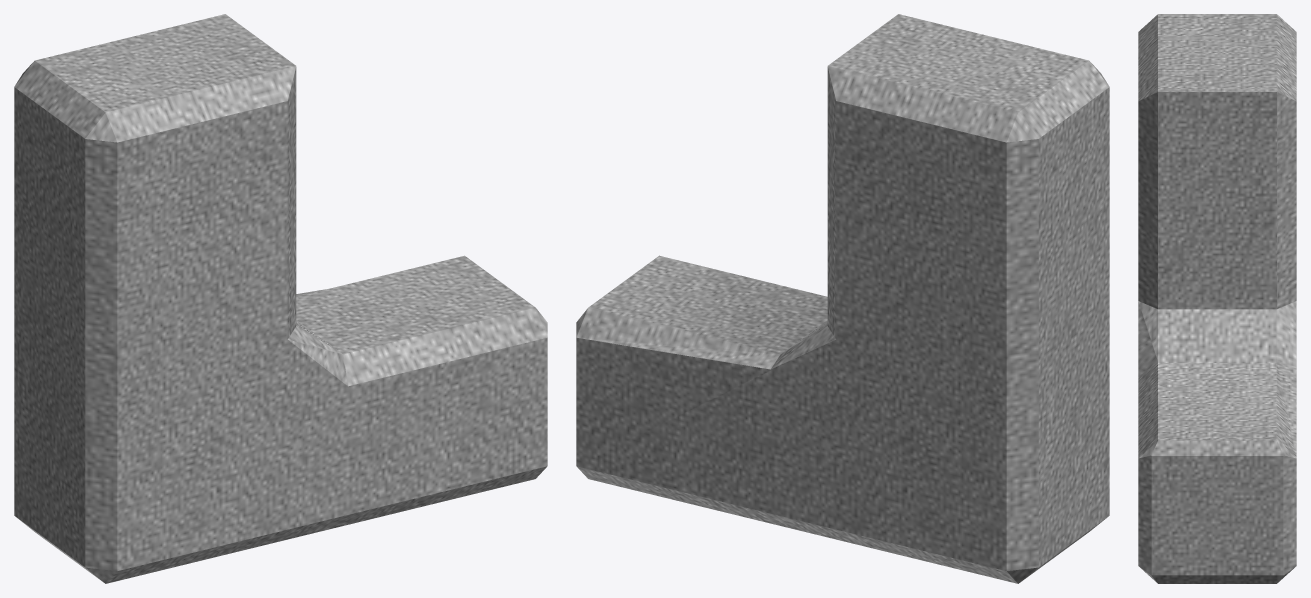
File: Motor.FBX
The picture shows the model from 3 angles, left to right: view 1: azimuth 30°, elevation 25°; view 2: azimuth 150°, elevation 25°; view 3: azimuth 270°, elevation 25°; orthographic projection. The views are drawn at different scales.
Visible parts, largest first — view 1: Motor; view 2: Motor; view 3: Motor.
Part boxes in pixels (bbox=[...]): Motor: bbox=[14, 14, 547, 583]; Motor: bbox=[576, 14, 1109, 583]; Motor: bbox=[1138, 14, 1296, 583].
Bounding box in the file's own units: 22.05 × 21.65 × 7.87.
